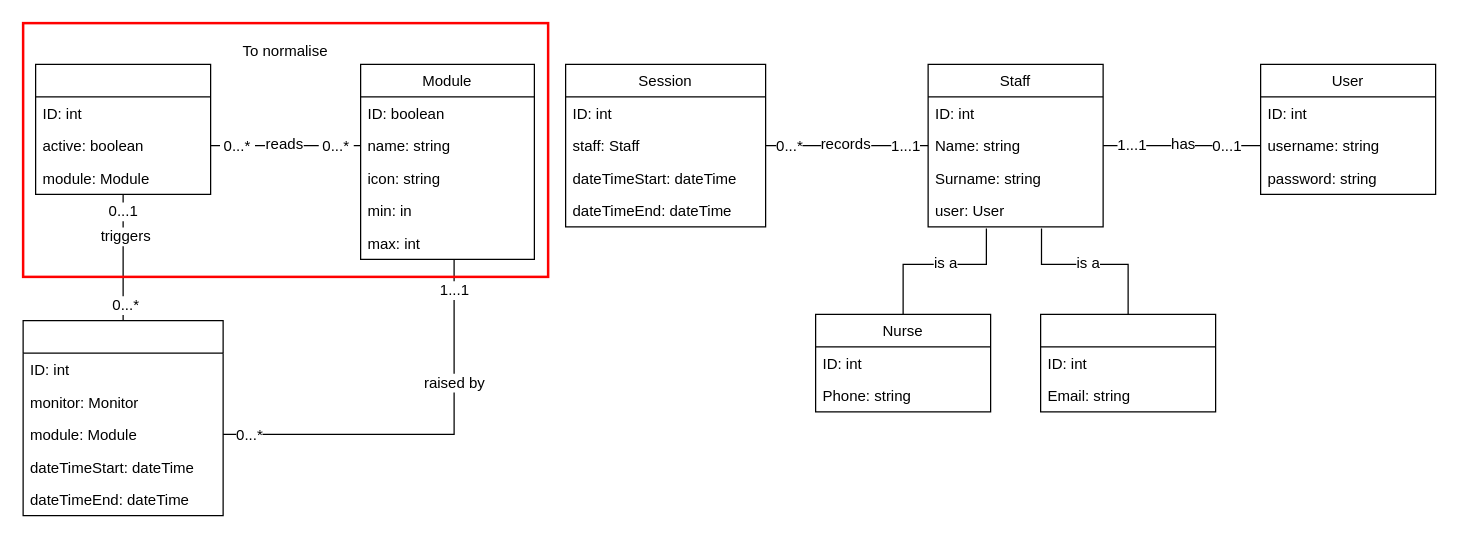
The diagram is 1458 pixels wide and 540 high, and some of its shapes have lost their labels. Here are the shapes that lost their labels. From the top down, the box of each, then its label:
(34, 63, 211, 194): Monitor
(1039, 313, 1216, 412): Consultant
(22, 319, 223, 516): Alarm
